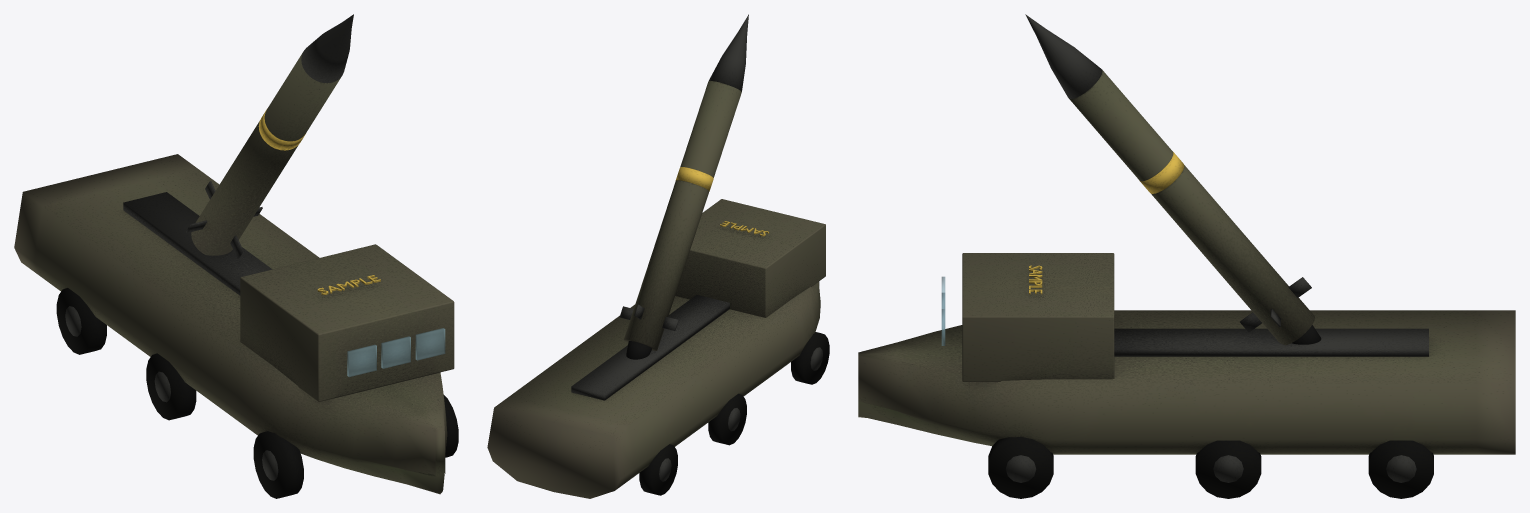
The model's file is sphere-tochka-u.glb.
3 renders of one model, left to right at view 1: azimuth 30°, elevation 25°; view 2: azimuth 150°, elevation 25°; view 3: azimuth 270°, elevation 25°, orthographic. The views are drawn at different scales.
Parts seen in each view (by area): view 1: hull, cab_glass_2, cab_glass_1, cab_glass_0; view 2: hull; view 3: hull.
Boxes of the visible parts, x1,y1,x2,y2 form: hull: (14,14,458,498); cab_glass_2: (415,328,445,360); cab_glass_1: (381,336,410,368); cab_glass_0: (347,344,376,376); hull: (487,14,829,498); hull: (858,14,1515,498).
Bounding box in the file's own units: 2.79 × 7.09 × 9.5.
2 materials, 1 textured.
